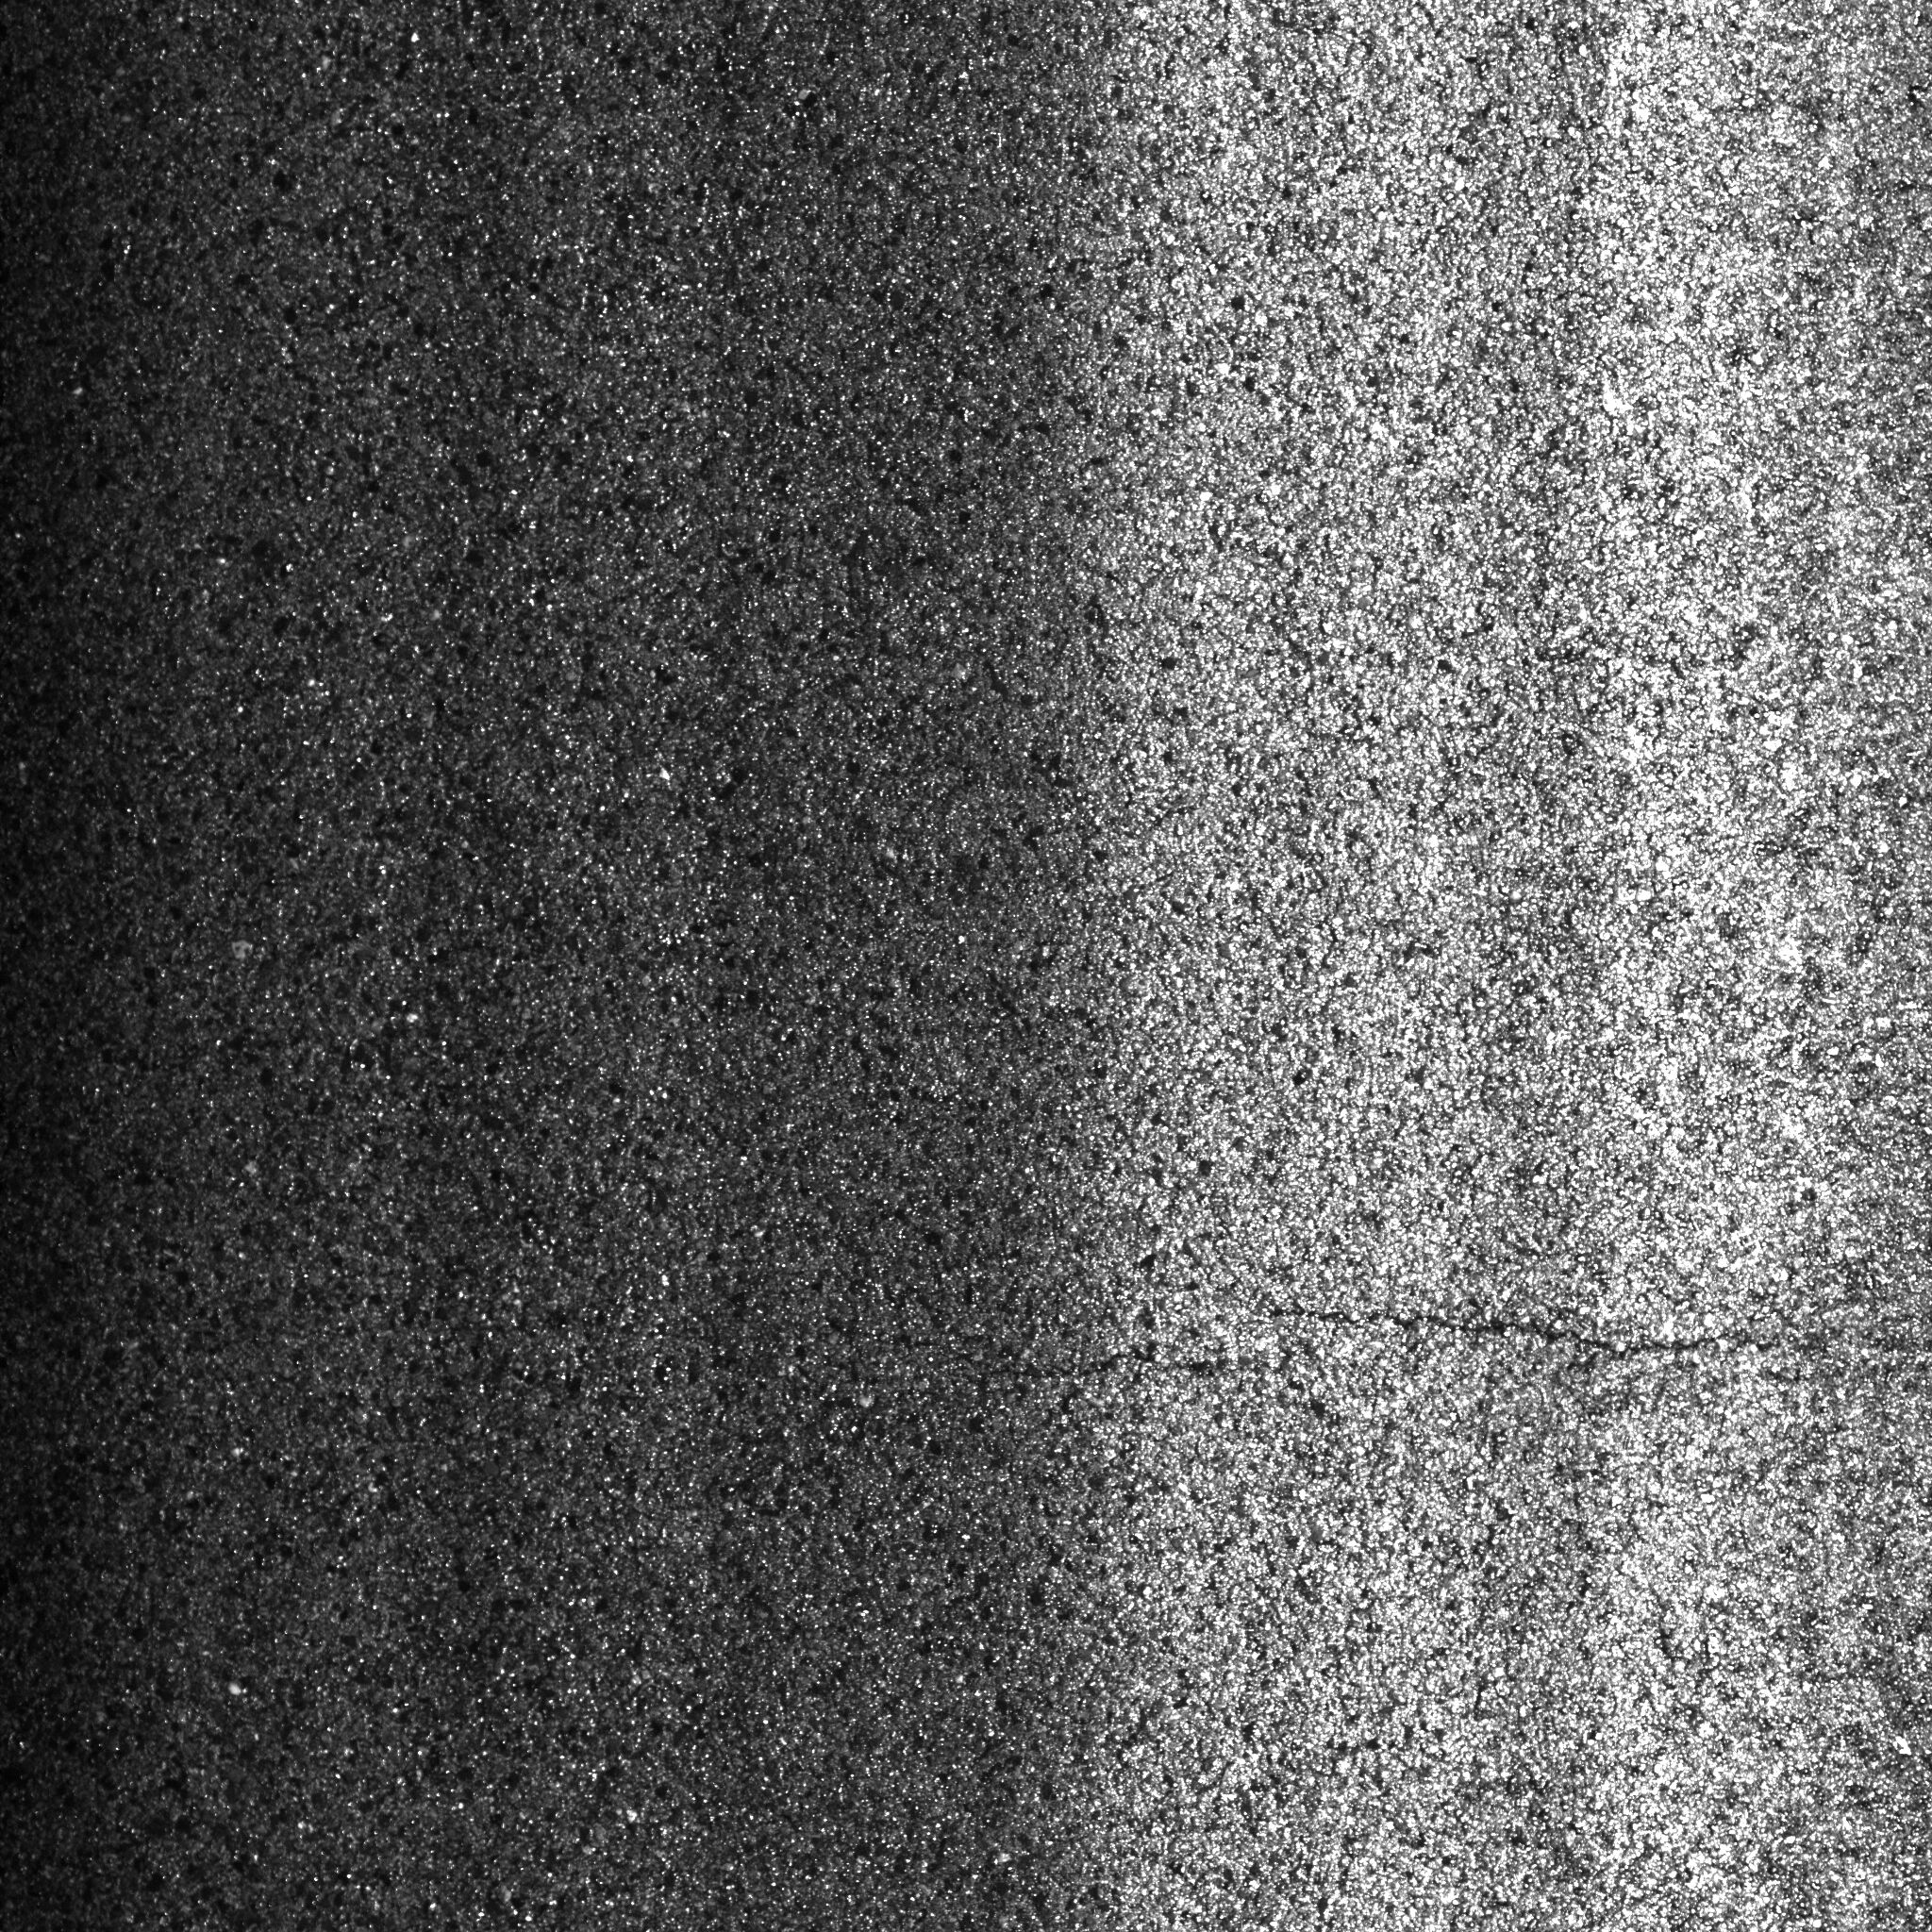transverse: (957, 1274, 1921, 1412)
